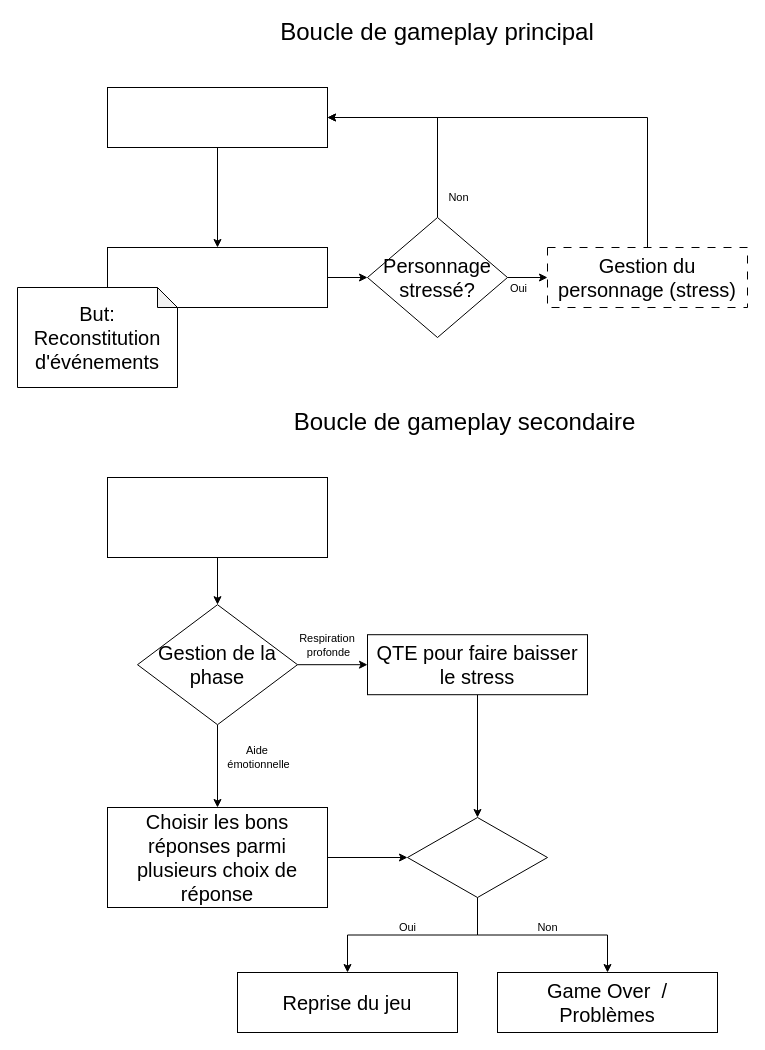
The diagram is 765 pixels wide and 1050 high, and some of its shapes have lost their labels. Each missing label, with the box of its shape:
Déclenchement d'une phase de stress/angoisse: (106, 476, 328, 558)
Liaison des objets / indices: (106, 246, 328, 308)
Recherche d'objets/indices: (106, 86, 328, 148)
Réussite ?: (406, 816, 548, 898)
